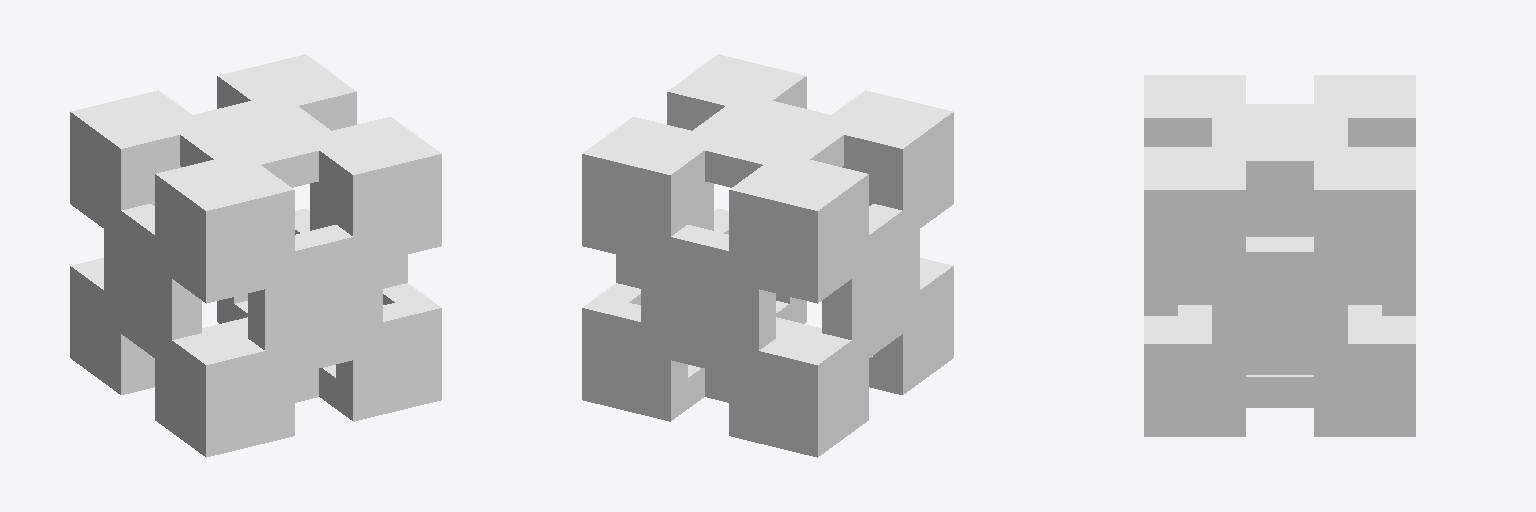
Rendered from gameCube_8_d.obj.
3 renders of one model, left to right at view 1: azimuth 30°, elevation 25°; view 2: azimuth 150°, elevation 25°; view 3: azimuth 270°, elevation 25°, orthographic.
Visible parts, largest first — view 1: gameCube_8_d; view 2: gameCube_8_d; view 3: gameCube_8_d.
Part boxes in pixels (x1,y1,x2,y2): gameCube_8_d: (70,54,441,457); gameCube_8_d: (582,54,953,457); gameCube_8_d: (1144,75,1415,436).
Bounding box in the file's own units: 8 × 8 × 8.